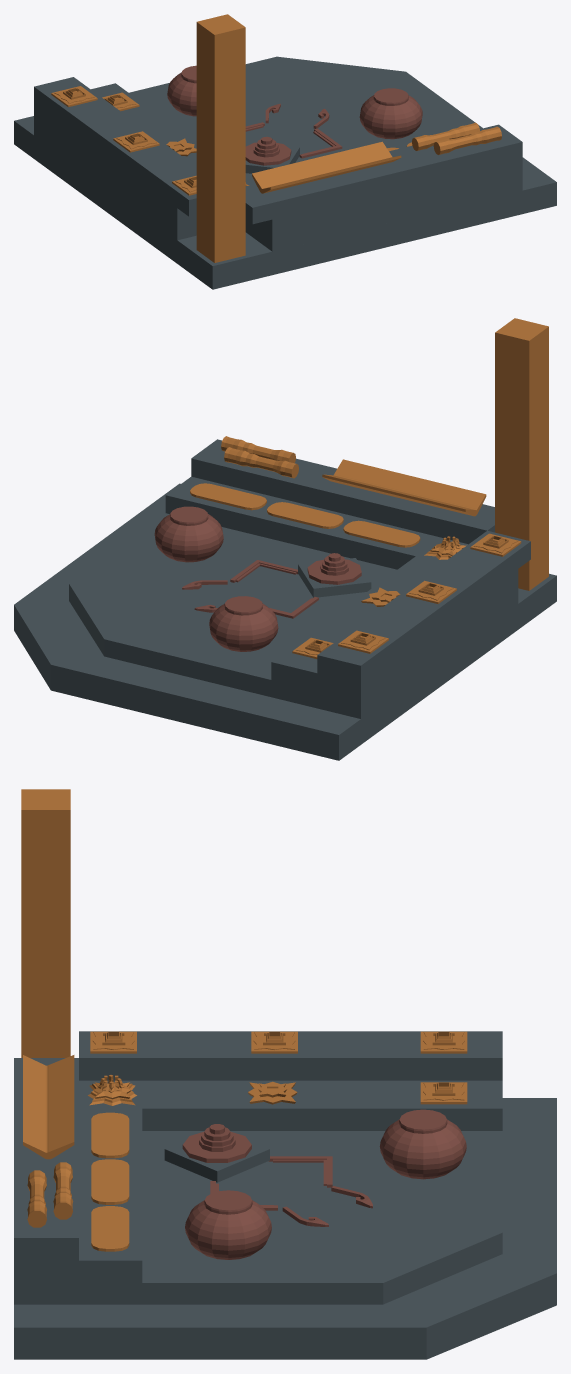
File: Etalase_1.fbx
3 renders of one model, top to bottom at view 1: azimuth 30°, elevation 25°; view 2: azimuth 150°, elevation 25°; view 3: azimuth 270°, elevation 25°, orthographic. The views are drawn at different scales.
Parts seen in each view (by area): view 1: E1 Fondasi, E1 T3 Tiang kayu, E1 T3 Wuwungan, E1 T1 Umpak 1, E1 T3 Penuwun, E1 T1 Umpak 2, E1 T1 Hiasan langit-langit, E1 T3 Soko bagian atas 5, E1 T3 Soko bagian atas 4, Cube.262, E1 T2 Soko bagian atas 3, E1 T1 Terbil; view 2: E1 Fondasi, E1 T3 Tiang kayu, E1 T3 Wuwungan, E1 T1 Umpak 1, E1 T1 Umpak 2, E1 T3 Penuwun, E1 T1 Hiasan langit-langit, E1 T2 Papan kayu1, E1 T2 Papan kayu2, E1 T2 Papan kayu3, Cube.262, E1 T3 Soko bagian atas 6 (+4 smaller); view 3: E1 Fondasi, E1 T3 Tiang kayu, E1 T3 Wuwungan, E1 T1 Umpak 2, E1 T1 Umpak 1, E1 T3 Penuwun, E1 T1 Hiasan langit-langit, Cube.262, E1 T2 Papan kayu3, E1 T2 Papan kayu2, E1 T2 Papan kayu1, E1 T2 Soko bagian atas 3 (+6 smaller).
Boxes of the visible parts, x1=… form: E1 Fondasi: x1=14, y1=56, x2=556, y2=289; E1 T3 Tiang kayu: x1=196, y1=14, x2=245, y2=262; E1 T3 Wuwungan: x1=252, y1=141, x2=401, y2=193; E1 T1 Umpak 1: x1=359, y1=88, x2=422, y2=139; E1 T3 Penuwun: x1=412, y1=122, x2=501, y2=154; E1 T1 Umpak 2: x1=167, y1=65, x2=196, y2=116; E1 T1 Hiasan langit-langit: x1=245, y1=136, x2=291, y2=165; E1 T3 Soko bagian atas 5: x1=113, y1=131, x2=159, y2=152; E1 T3 Soko bagian atas 4: x1=51, y1=86, x2=97, y2=107; Cube.262: x1=245, y1=141, x2=299, y2=173; E1 T2 Soko bagian atas 3: x1=102, y1=92, x2=139, y2=111; E1 T1 Terbil: x1=245, y1=122, x2=342, y2=158; E1 Fondasi: x1=14, y1=439, x2=556, y2=760; E1 T3 Tiang kayu: x1=495, y1=318, x2=548, y2=590; E1 T3 Wuwungan: x1=322, y1=459, x2=486, y2=516; E1 T1 Umpak 1: x1=154, y1=506, x2=223, y2=562; E1 T1 Umpak 2: x1=209, y1=596, x2=278, y2=651; E1 T3 Penuwun: x1=221, y1=436, x2=298, y2=478; E1 T1 Hiasan langit-langit: x1=307, y1=553, x2=361, y2=584; E1 T2 Papan kayu1: x1=190, y1=483, x2=266, y2=510; E1 T2 Papan kayu2: x1=267, y1=502, x2=343, y2=528; E1 T2 Papan kayu3: x1=343, y1=520, x2=420, y2=547; Cube.262: x1=298, y1=558, x2=371, y2=597; E1 T3 Soko bagian atas 6: x1=470, y1=533, x2=521, y2=556; E1 Fondasi: x1=14, y1=1031, x2=556, y2=1359; E1 T3 Tiang kayu: x1=21, y1=789, x2=70, y2=1057; E1 T3 Wuwungan: x1=23, y1=1055, x2=74, y2=1159; E1 T1 Umpak 2: x1=379, y1=1109, x2=466, y2=1179; E1 T1 Umpak 1: x1=185, y1=1190, x2=271, y2=1259; E1 T3 Penuwun: x1=27, y1=1162, x2=73, y2=1227; E1 T1 Hiasan langit-langit: x1=182, y1=1124, x2=251, y2=1162; Cube.262: x1=164, y1=1140, x2=269, y2=1182; E1 T2 Papan kayu3: x1=91, y1=1112, x2=129, y2=1158; E1 T2 Papan kayu2: x1=91, y1=1159, x2=129, y2=1204; E1 T2 Papan kayu1: x1=91, y1=1206, x2=129, y2=1251; E1 T2 Soko bagian atas 3: x1=420, y1=1082, x2=467, y2=1104.
Bounding box in the file's own units: 500 × 349 × 500.
